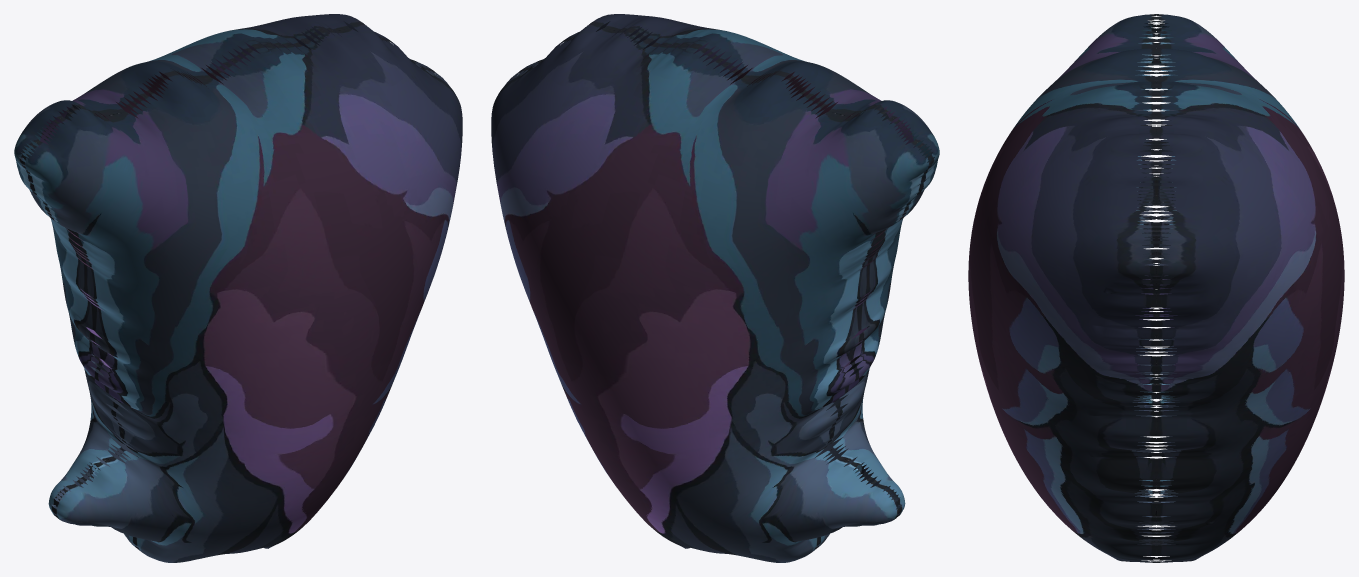
Rendered from slate_cliff.glb.
3 views of the same model, side by side, from view 1: azimuth 30°, elevation 25°; view 2: azimuth 150°, elevation 25°; view 3: azimuth 270°, elevation 25° (orthographic).
Visible parts, largest first — view 1: slate_cliff; view 2: slate_cliff; view 3: slate_cliff.
Boxes of the visible parts, x1,y1,x2,y2 form: slate_cliff: [14, 14, 462, 562]; slate_cliff: [491, 14, 939, 562]; slate_cliff: [968, 14, 1344, 562].
Size of the model in its own units: 0.9878 by 1.08 by 0.767.
Materials: 1 (1 with a texture image).
